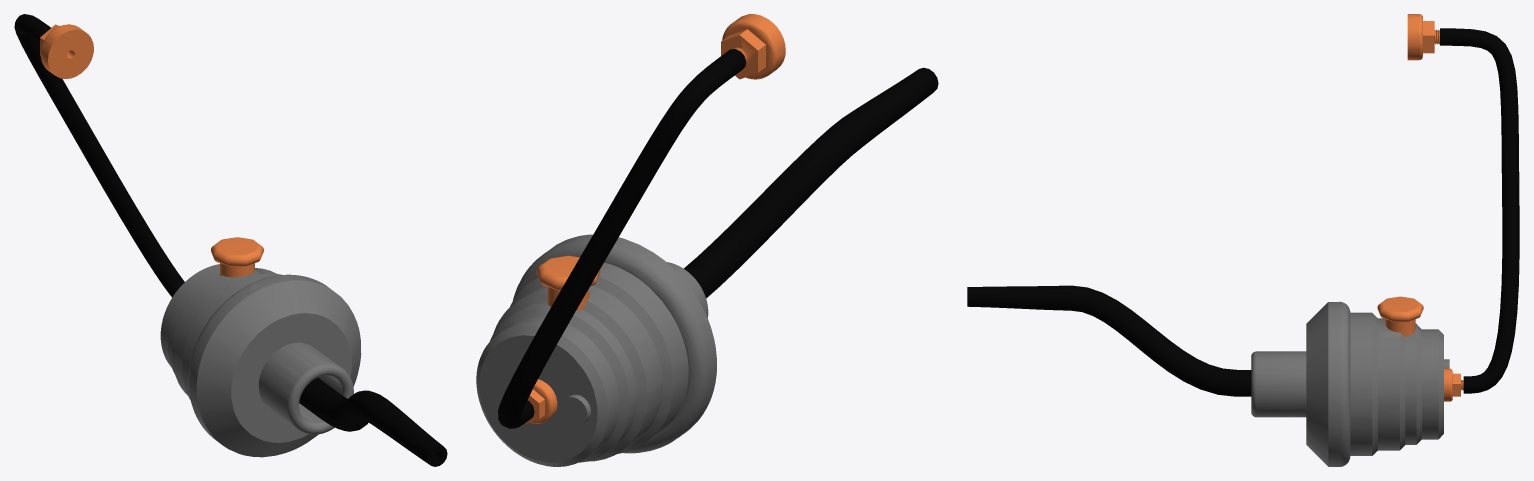
File: turboSmall-wastegate.fbx
The picture shows the model from 3 angles, left to right: view 1: azimuth 30°, elevation 25°; view 2: azimuth 150°, elevation 25°; view 3: azimuth 270°, elevation 25°; orthographic projection. The views are drawn at different scales.
Visible parts, largest first — view 1: turboSmall-wastegate; view 2: turboSmall-wastegate; view 3: turboSmall-wastegate.
Part boxes in pixels (x1,y1,x2,y2): turboSmall-wastegate: (14,14,447,466); turboSmall-wastegate: (476,14,938,466); turboSmall-wastegate: (967,14,1519,466).
Size of the model in its own units: 4.87 by 7.5 by 10.02.
